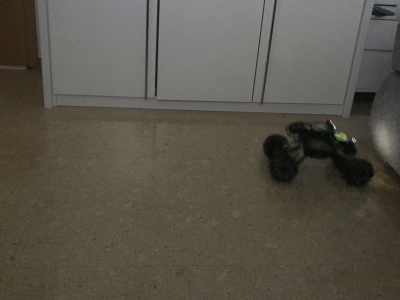remote control car: (261, 117, 375, 186)
